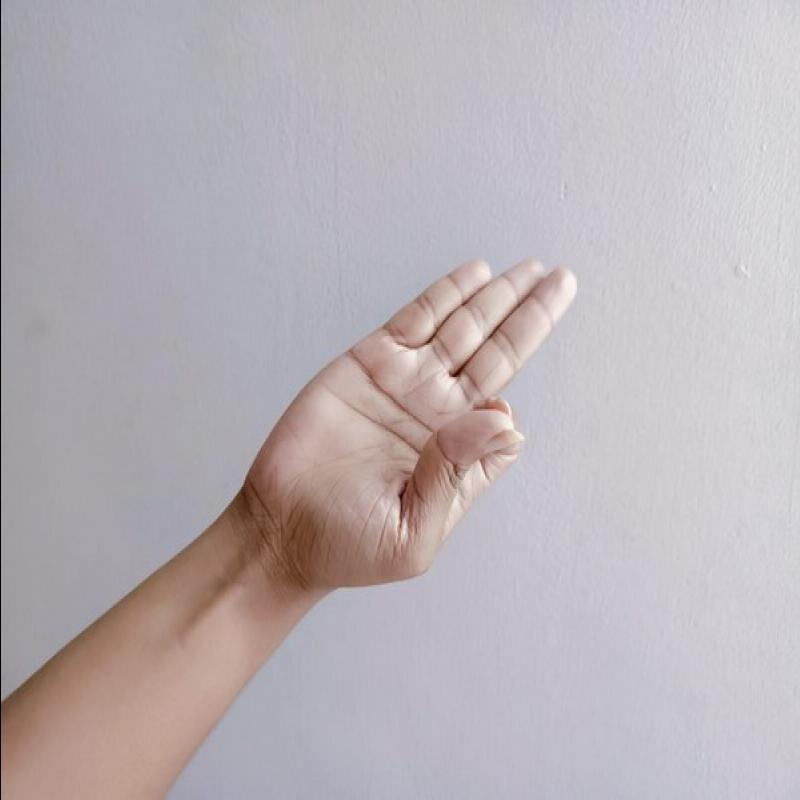Mudraakhyam: (246, 228, 608, 605)
